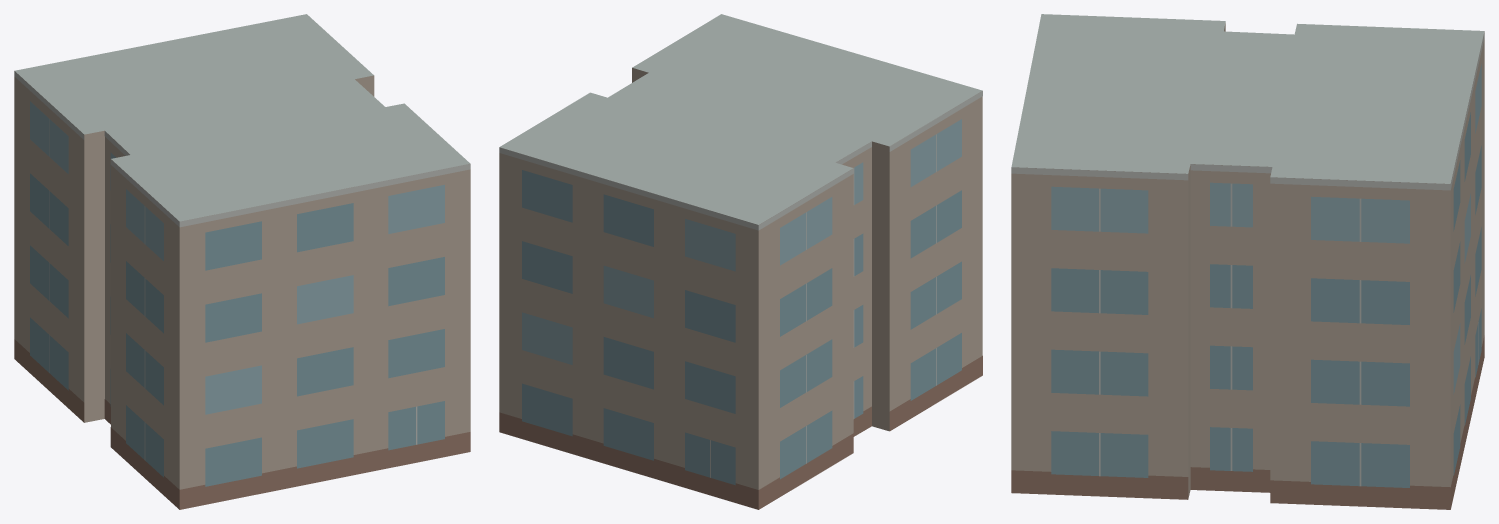
Rendered from survey-upis-32681524.glb.
3 views of the same model, side by side, from view 1: azimuth 30°, elevation 25°; view 2: azimuth 150°, elevation 25°; view 3: azimuth 270°, elevation 25° (orthographic). The views are drawn at different scales.
Visible parts, largest first — view 1: survey-upis-32681524.tmp; view 2: survey-upis-32681524.tmp; view 3: survey-upis-32681524.tmp.
Boxes of the visible parts, x1,y1,x2,y2 form: survey-upis-32681524.tmp: (14, 14, 470, 509); survey-upis-32681524.tmp: (499, 14, 982, 509); survey-upis-32681524.tmp: (1011, 14, 1484, 509).
Size of the model in its own units: 13.77 by 12.3 by 16.2.
